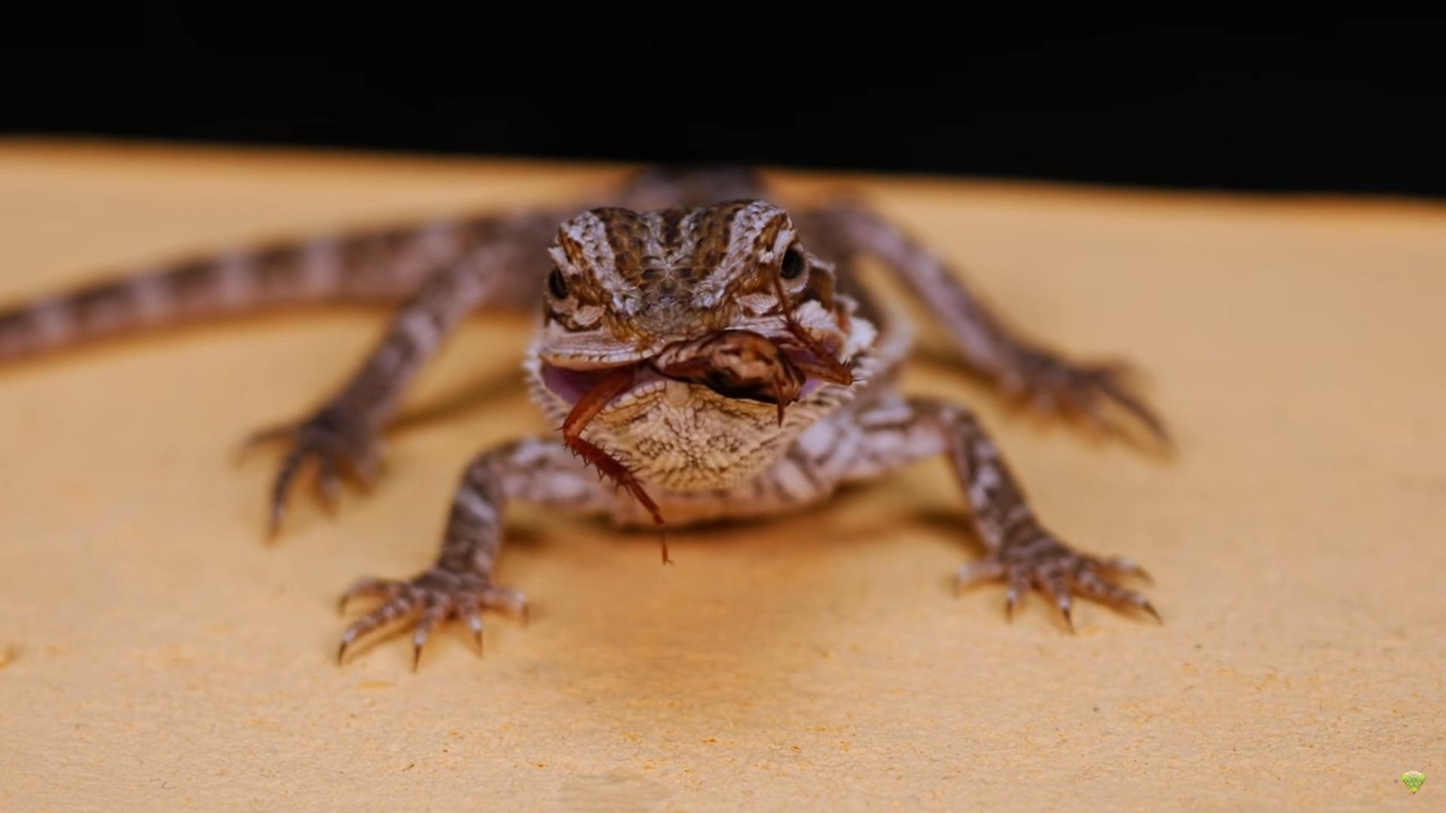cockroach: (552, 315, 856, 568)
lizard: (312, 197, 1181, 710)
